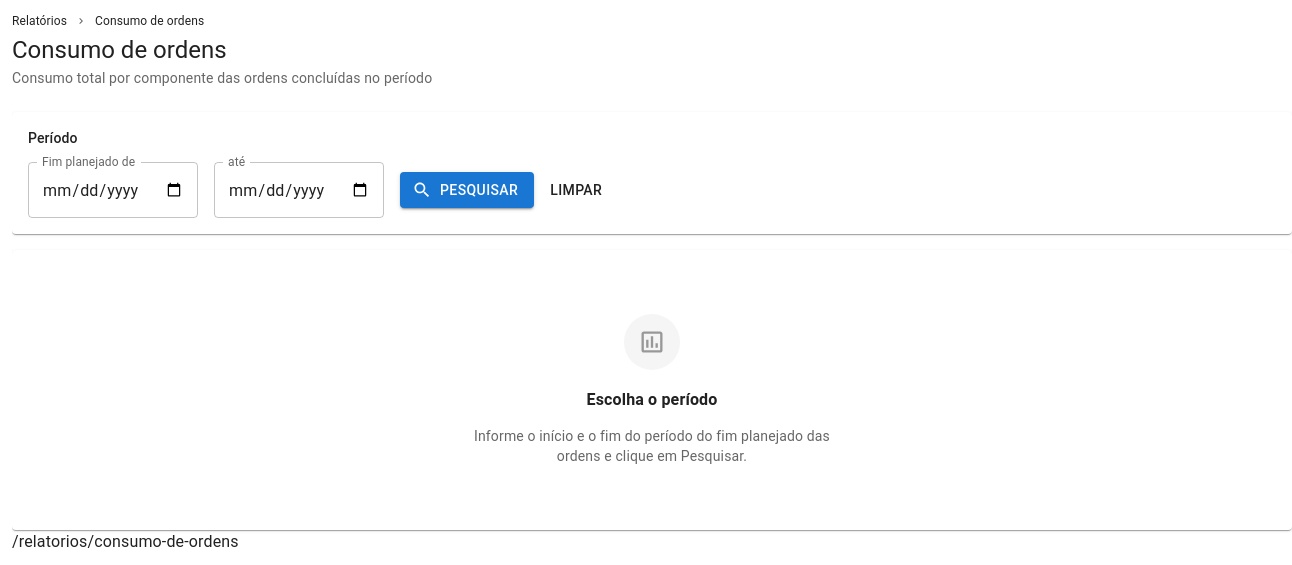
RelatorioConsumoOrdensPage › Pesquisar coloca o período na URL e consulta o servidor
Type "2026-09-01" into the date field labelled "Fim planejado de".
click(113, 190); type("2026-09-01")  # box [28, 162, 198, 218]
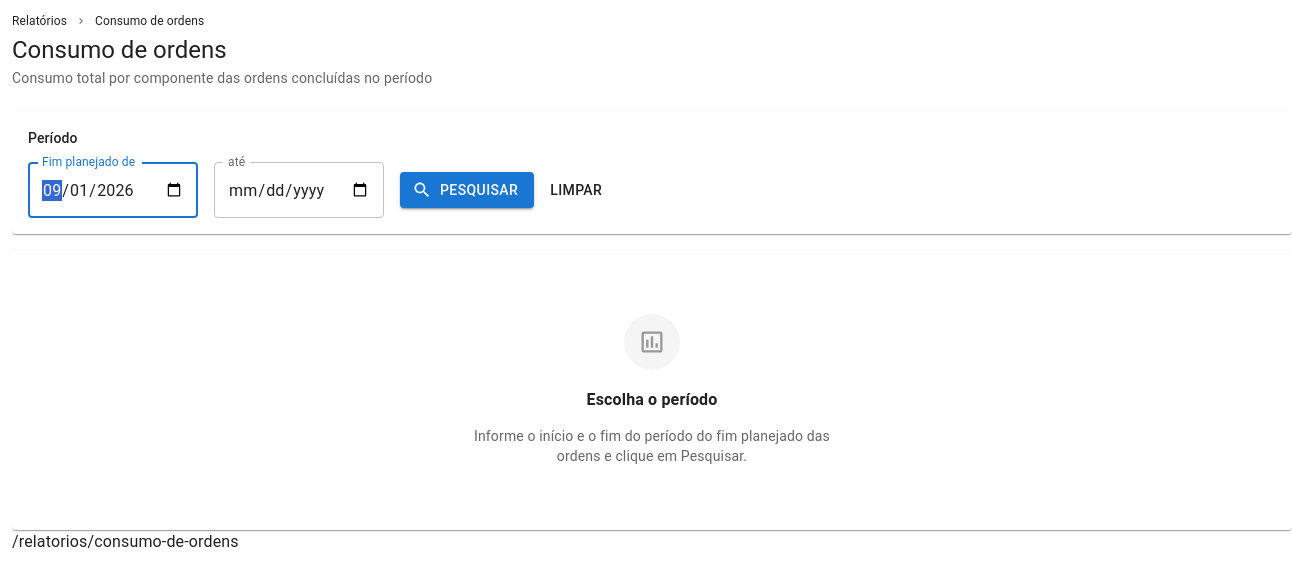
Type "2026-09-30" into the date field labelled "até".
click(299, 190); type("2026-09-30")  # box [214, 162, 384, 218]
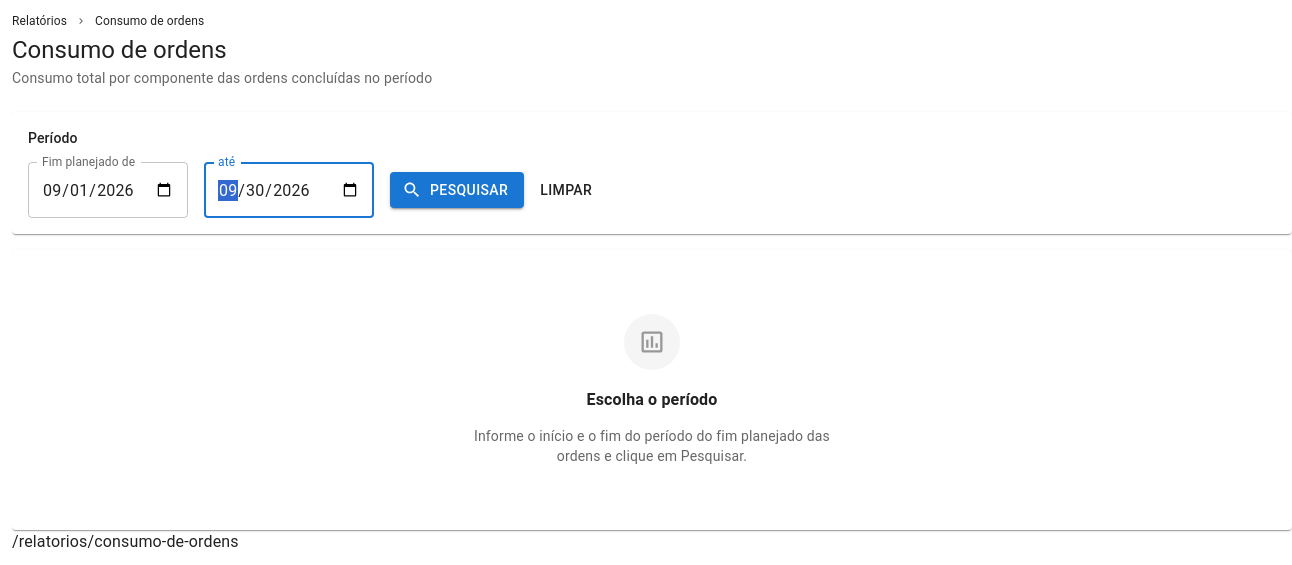
Click the button "Pesquisar".
click(457, 190)  # box [390, 172, 524, 208]
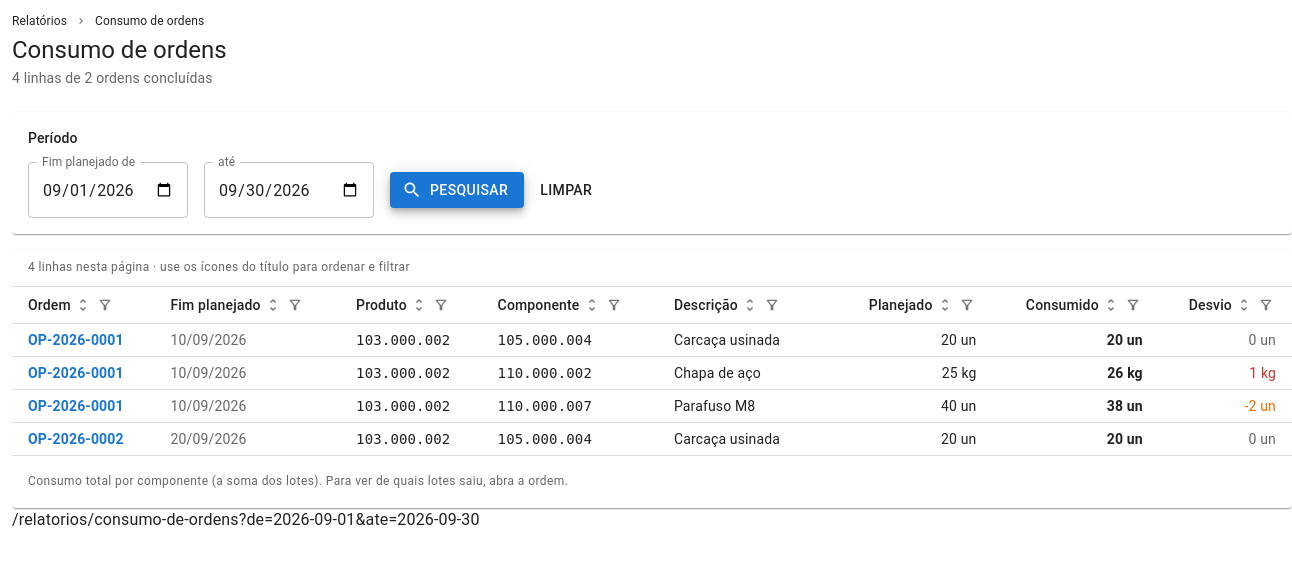
Expected: the text "Chapa de aço" is shown, [674, 365, 761, 381]
Expected: the text with test id "rota" shows "de=2026-09-01&ate=2026-09-30", [12, 510, 480, 529]
